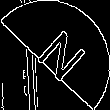N_SW: (24, 23, 86, 87)
